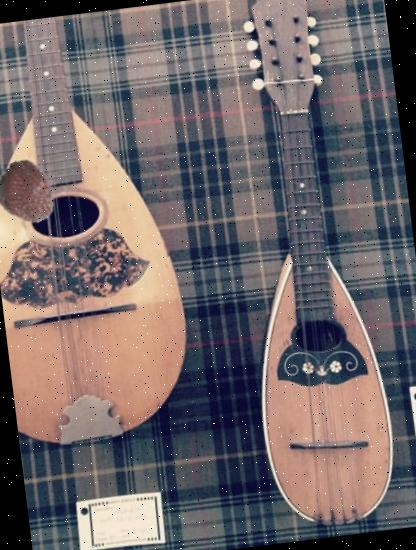Strawberry: (0, 157, 60, 229)
